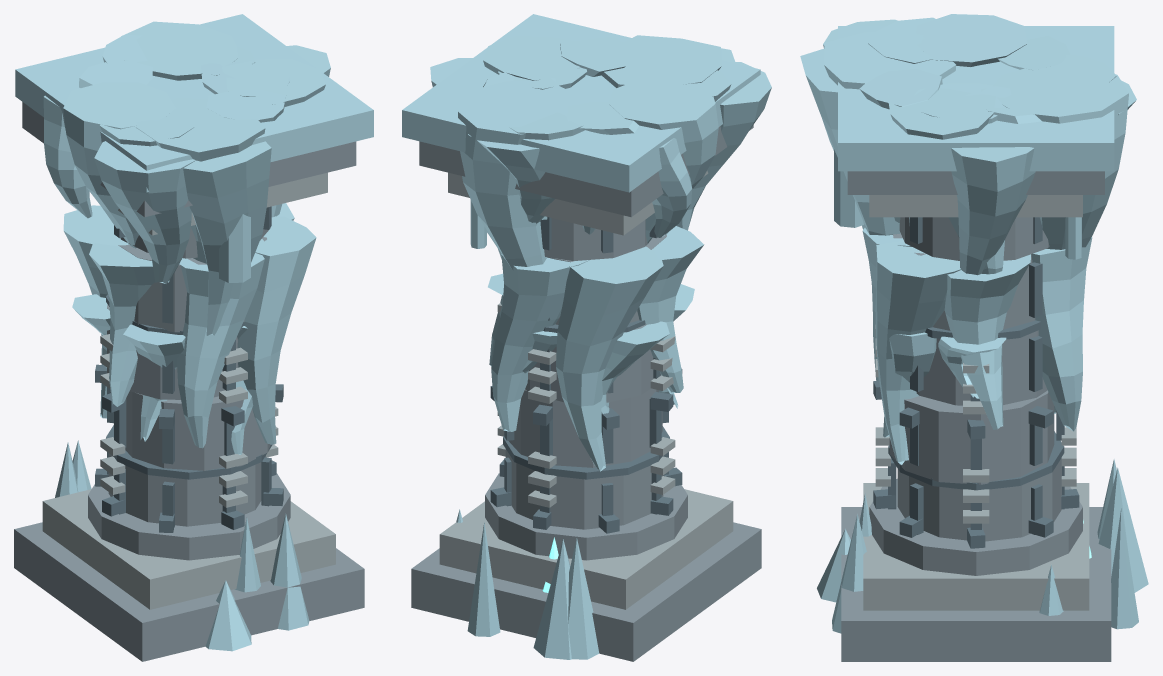
The model's file is b2-glaciated-pillar-v3.glb.
3 views of the same model, side by side, from view 1: azimuth 30°, elevation 25°; view 2: azimuth 150°, elevation 25°; view 3: azimuth 270°, elevation 25° (orthographic). The views are drawn at different scales.
Visible parts, largest first — view 1: stone plinth, overhanging translucent ice cap, lower carved base, layered frozen meltwater sheet.025, layered frozen meltwater sheet.027, layered frozen meltwater sheet.024, layered frozen meltwater sheet.026, lower torus stone, layered frozen meltwater sheet.010, individual irregular stone drum.001, layered frozen meltwater sheet.023, individual irregular stone drum (+25 smaller); view 2: stone plinth, overhanging translucent ice cap, lower carved base, layered frozen meltwater sheet.022, layered frozen meltwater sheet.004, layered frozen meltwater sheet.021, lower torus stone, layered frozen meltwater sheet.010, individual irregular stone drum, individual irregular stone drum.001, capital sculpted crown, layered frozen meltwater sheet.023 (+22 smaller); view 3: stone plinth, overhanging translucent ice cap, lower carved base, individual irregular stone drum.001, layered frozen meltwater sheet.025, layered frozen meltwater sheet.004, lower torus stone, layered frozen meltwater sheet.029, layered frozen meltwater sheet.021, layered frozen meltwater sheet.020, individual irregular stone drum, layered frozen meltwater sheet.010 (+30 smaller).
Boxes of the visible parts, left/top/right/bottom form: stone plinth: left=14, top=522, right=364, bottom=661; overhanging translucent ice cap: left=15, top=14, right=373, bottom=192; lower carved base: left=42, top=489, right=335, bottom=609; layered frozen meltwater sheet.025: left=237, top=216, right=316, bottom=444; layered frozen meltwater sheet.027: left=183, top=141, right=271, bottom=335; layered frozen meltwater sheet.024: left=176, top=247, right=264, bottom=448; layered frozen meltwater sheet.026: left=94, top=141, right=195, bottom=284; lower torus stone: left=88, top=473, right=290, bottom=560; layered frozen meltwater sheet.010: left=63, top=82, right=176, bottom=248; individual irregular stone drum.001: left=125, top=391, right=270, bottom=470; layered frozen meltwater sheet.023: left=89, top=243, right=155, bottom=406; individual irregular stone drum: left=108, top=453, right=265, bottom=526; stone plinth: left=411, top=522, right=761, bottom=661; overhanging translucent ice cap: left=402, top=14, right=760, bottom=192; lower carved base: left=439, top=489, right=733, bottom=609; layered frozen meltwater sheet.022: left=556, top=246, right=663, bottom=471; layered frozen meltwater sheet.004: left=458, top=80, right=576, bottom=270; layered frozen meltwater sheet.021: left=491, top=254, right=589, bottom=431; lower torus stone: left=485, top=473, right=687, bottom=560; layered frozen meltwater sheet.010: left=608, top=79, right=718, bottom=245; individual irregular stone drum: left=505, top=449, right=663, bottom=529; individual irregular stone drum.001: left=508, top=388, right=662, bottom=467; capital sculpted crown: left=419, top=125, right=753, bottom=217; layered frozen meltwater sheet.023: left=637, top=226, right=704, bottom=392; stone plinth: left=841, top=507, right=1111, bottom=661; overhanging translucent ice cap: left=838, top=26, right=1114, bottom=171; lower carved base: left=863, top=483, right=1089, bottom=610; individual irregular stone drum.001: left=889, top=390, right=1054, bottom=484; layered frozen meltwater sheet.025: left=875, top=240, right=961, bottom=464; layered frozen meltwater sheet.004: left=992, top=63, right=1128, bottom=249; lower torus stone: left=869, top=478, right=1082, bottom=575; layered frozen meltwater sheet.029: left=951, top=147, right=1035, bottom=275; layered frozen meltwater sheet.021: left=1031, top=237, right=1092, bottom=431; layered frozen meltwater sheet.020: left=944, top=254, right=1030, bottom=429; individual irregular stone drum: left=897, top=458, right=1061, bottom=541; layered frozen meltwater sheet.010: left=916, top=14, right=1027, bottom=66.
Bounding box in the file's own units: 2.72 × 4.66 × 2.77.
